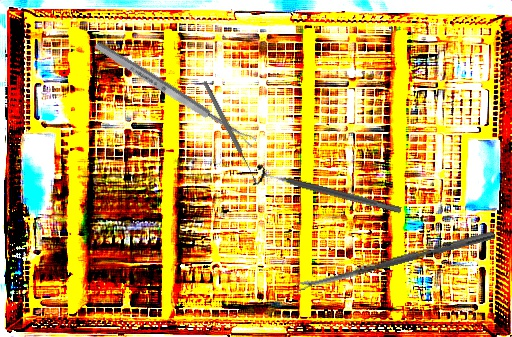Fixation Ring: (252, 163, 404, 222)
Surgical Spoon: (92, 39, 258, 149), (295, 229, 496, 292), (201, 79, 259, 185)
